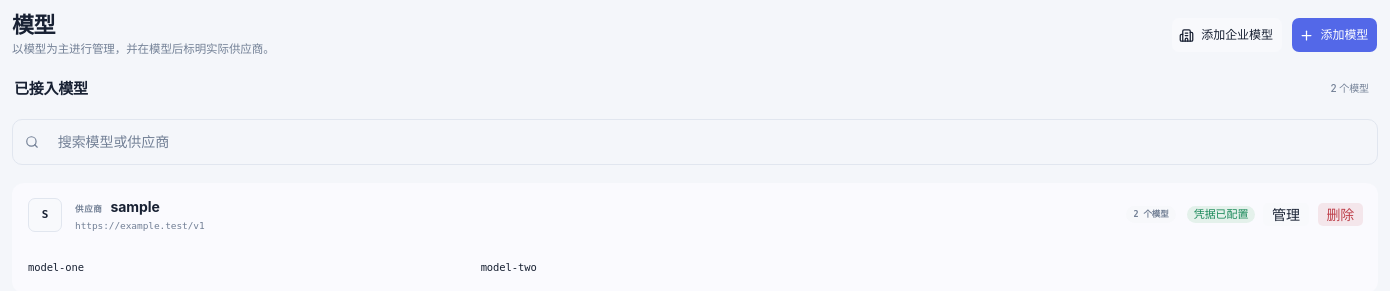
Scenario: searches connected models without changing their configuration
The width and height of the screenshot is (1390, 291).
In the search field named "搜索已接入模型": x=707, y=142 [49,122,1365,162], type "two"
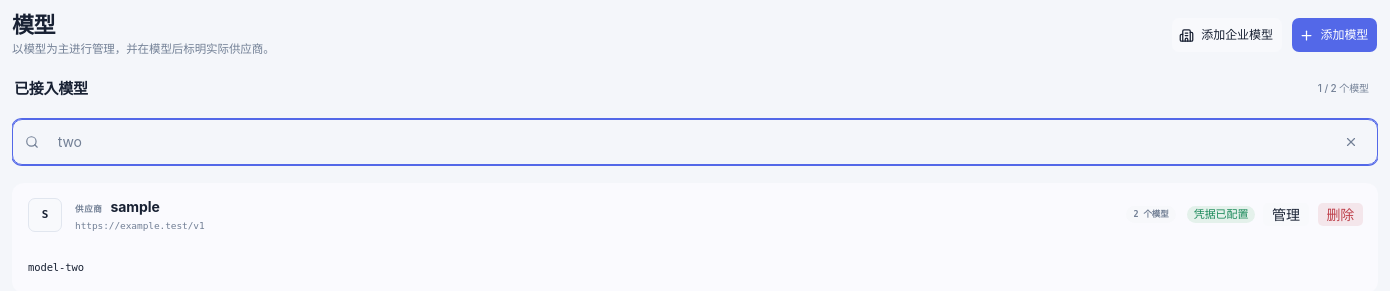
Check: the text "model-two" is shown, box [28,261,84,274]
Check: the text "model-one" is gone
Check: the text "1 / 2 个模型" is shown, box [1318,82,1369,94]
Click the button named "清空搜索": x=1351, y=142 [1337,128,1365,156]
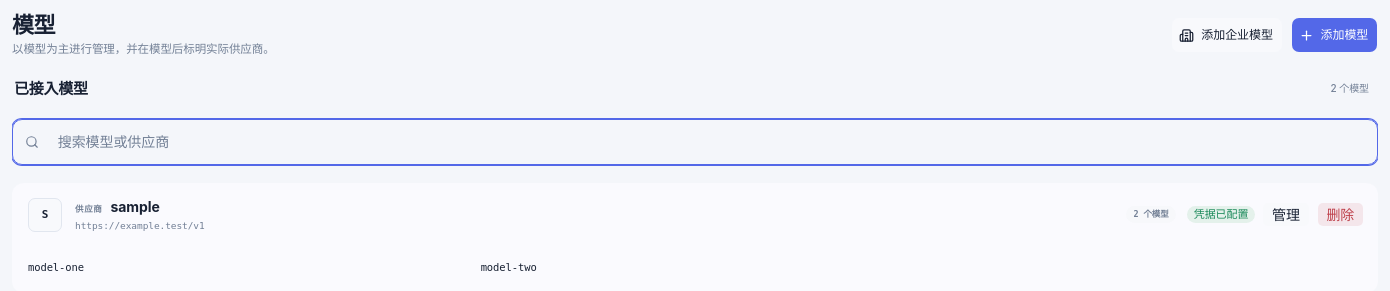
Check: the text "model-one" is shown, box [28,261,84,274]
